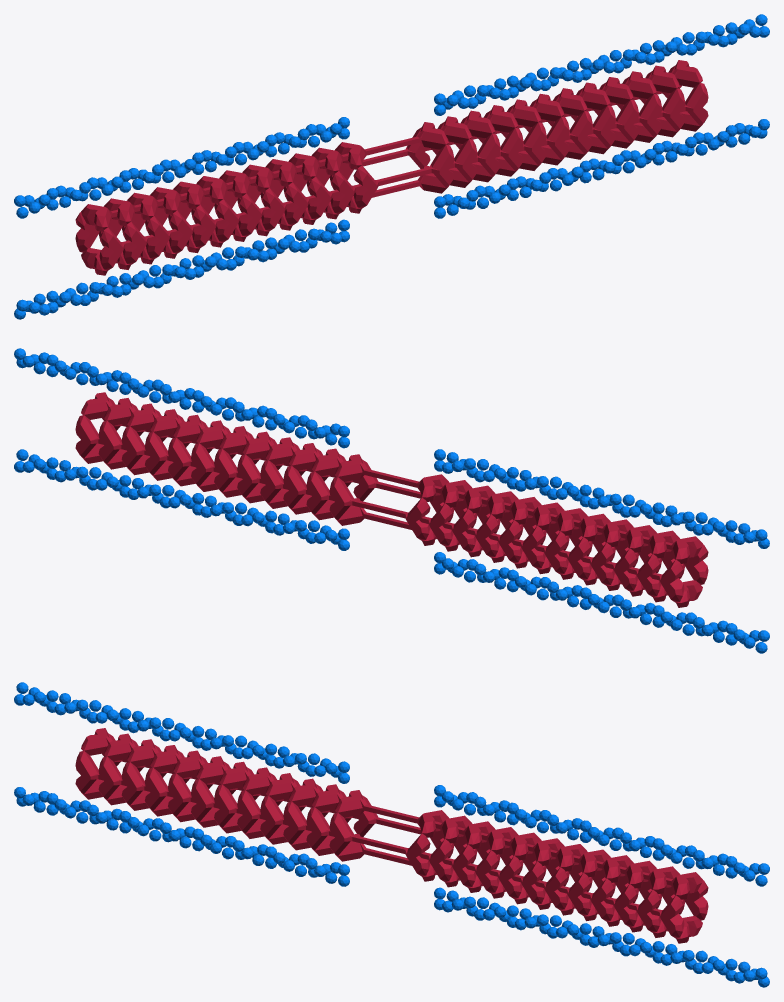
Rendered from sarcomere.gltf.
3 views of the same model, one above another, from view 1: azimuth 30°, elevation 25°; view 2: azimuth 150°, elevation 25°; view 3: azimuth 330°, elevation 25° (orthographic).
Parts seen in each view (by area): view 1: texture.png_texture.png_mesh.003; view 2: texture.png_texture.png_mesh.003; view 3: texture.png_texture.png_mesh.003.
Boxes of the visible parts, left/top/right/bottom form: texture.png_texture.png_mesh.003: left=14, top=14, right=769, bottom=319; texture.png_texture.png_mesh.003: left=14, top=348, right=769, bottom=653; texture.png_texture.png_mesh.003: left=14, top=682, right=769, bottom=987.
Size of the model in its own units: 3.61 by 0.5716 by 0.2717.
1 material, 1 textured.
